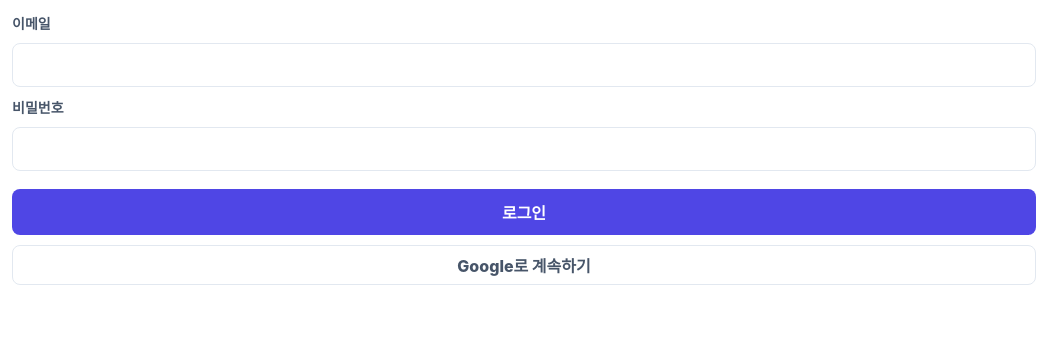
Scenario: SigninForm › shows login errors
In the field labelled "이메일": (524, 65) [12,43,1036,87], type "user@example.com"
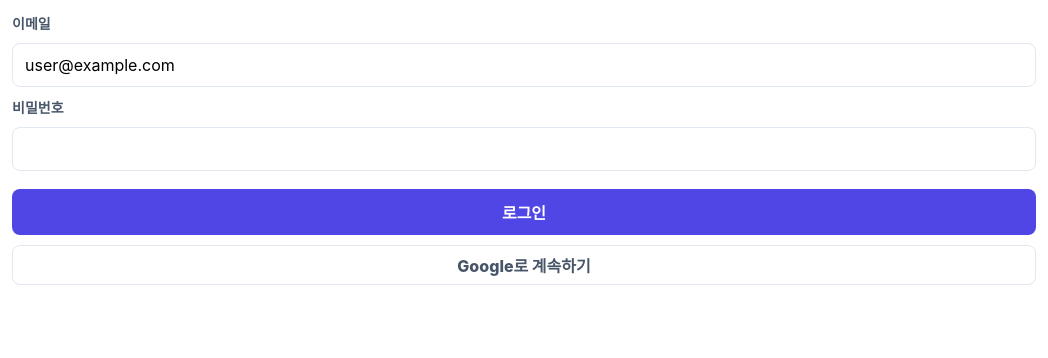
In the password field labelled "비밀번호": (524, 149) [12,127,1036,171], type "wrong-password1"
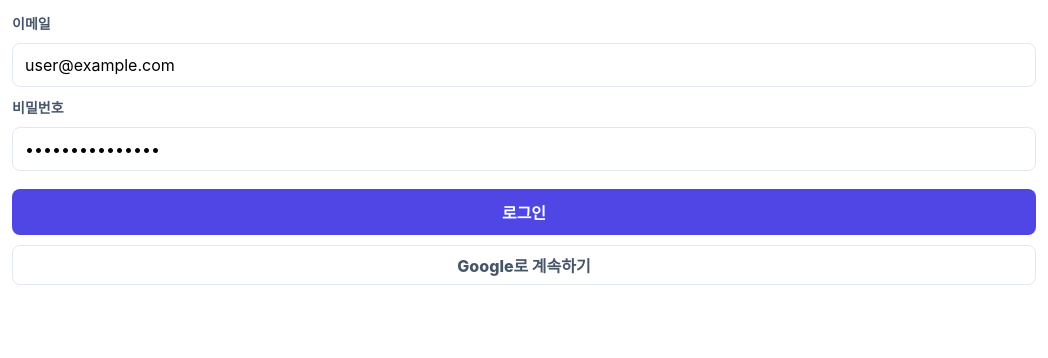
Click the button "로그인": (524, 212) [12,189,1036,235]
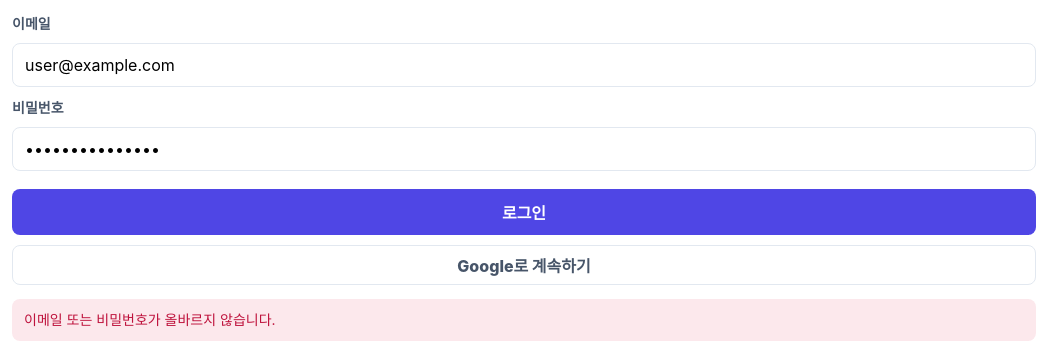
Now the text "이메일 또는 비밀번호가 올바르지 않습니다." is shown, box [12,299,1036,341]
